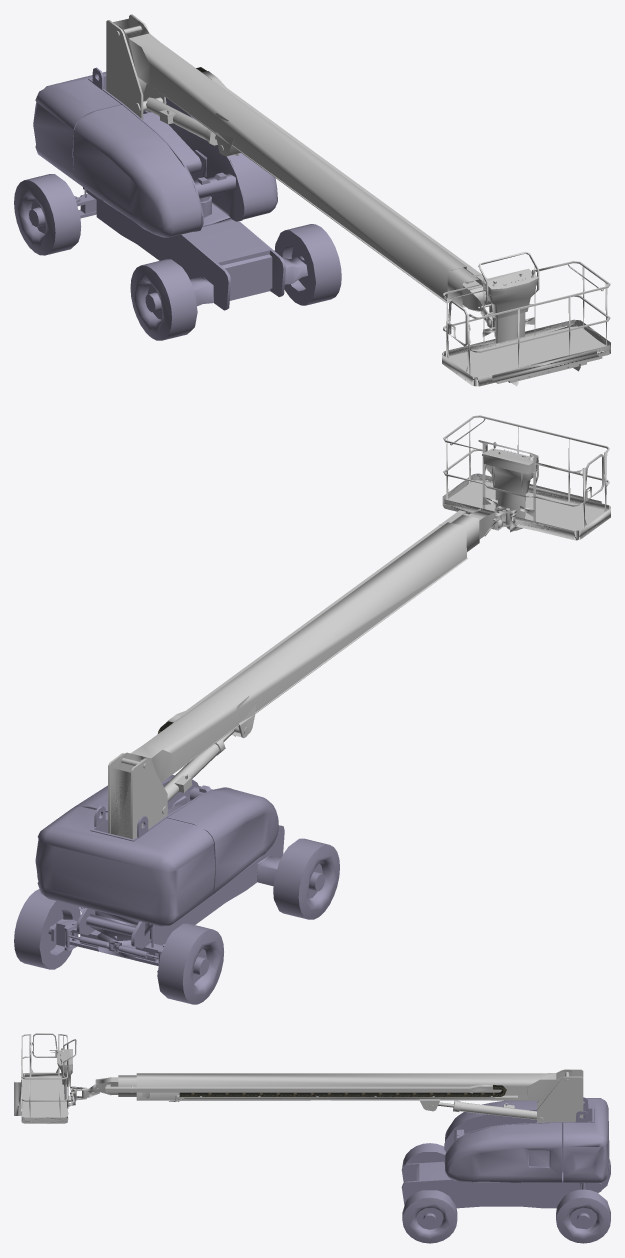
File: boomLift.FBX
The picture shows the model from 3 angles, top to bottom: view 1: azimuth 30°, elevation 25°; view 2: azimuth 150°, elevation 25°; view 3: azimuth 270°, elevation 25°; orthographic projection. The views are drawn at different scales.
Visible parts, largest first — view 1: boomLift; view 2: boomLift; view 3: boomLift.
Boxes of the visible parts, x1,y1,x2,y2 form: boomLift: (14, 14, 610, 386); boomLift: (14, 415, 610, 1004); boomLift: (14, 1033, 610, 1243).
Size of the model in its own units: 125 by 176 by 563.
